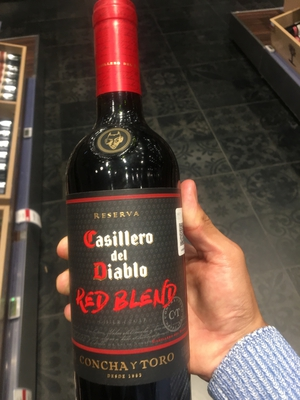casillero del diablo red blend: (57, 12, 197, 400)
